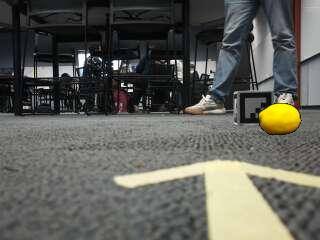lemon: (260, 104, 301, 134)
